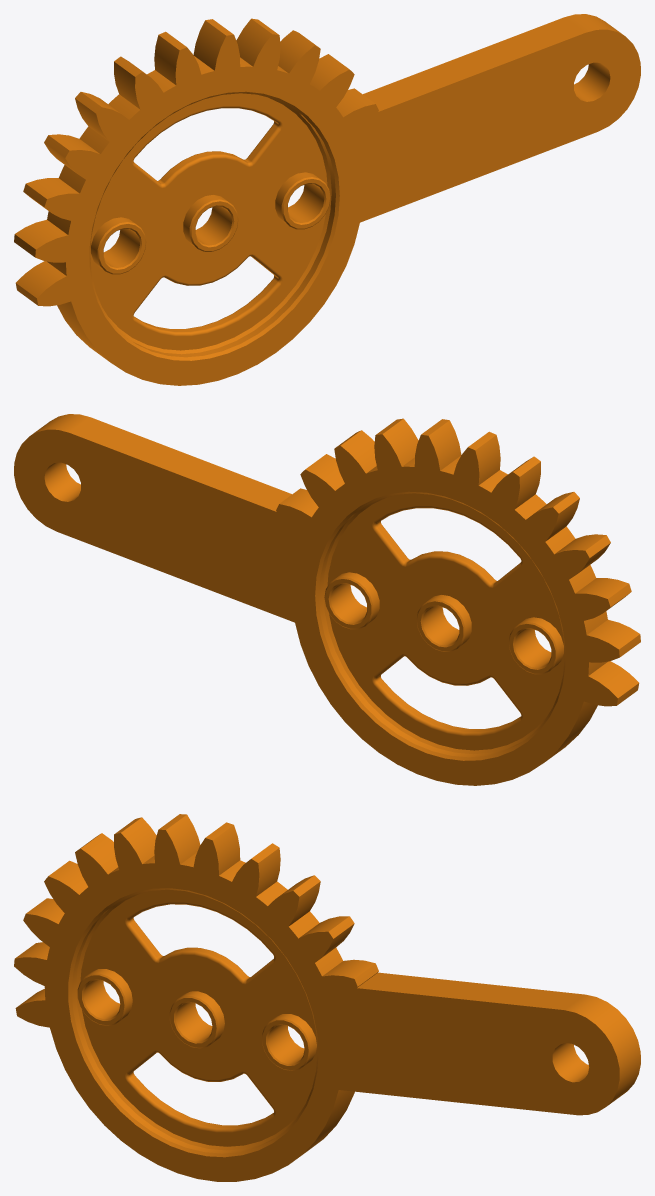
The model's file is Gear link 2.gltf.
3 renders of one model, top to bottom at view 1: azimuth 30°, elevation 25°; view 2: azimuth 150°, elevation 25°; view 3: azimuth 330°, elevation 25°, orthographic.
Parts seen in each view (by area): view 1: Solid1; view 2: Solid1; view 3: Solid1.
Part boxes in pixels (bbox=[...]): Solid1: bbox=[14, 14, 640, 385]; Solid1: bbox=[14, 414, 640, 785]; Solid1: bbox=[14, 814, 640, 1181].
Bounding box in the file's own units: 0.0493 × 0.0267 × 0.003.
